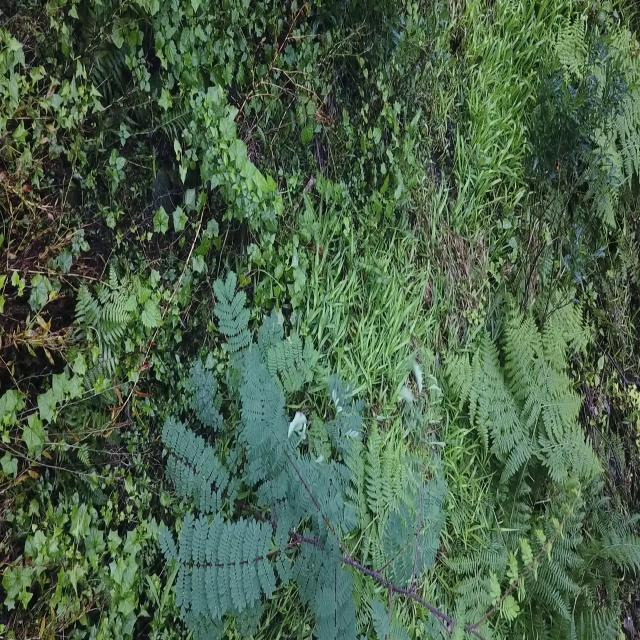Mysore-Thorn-Weed: (151, 265, 493, 640)
